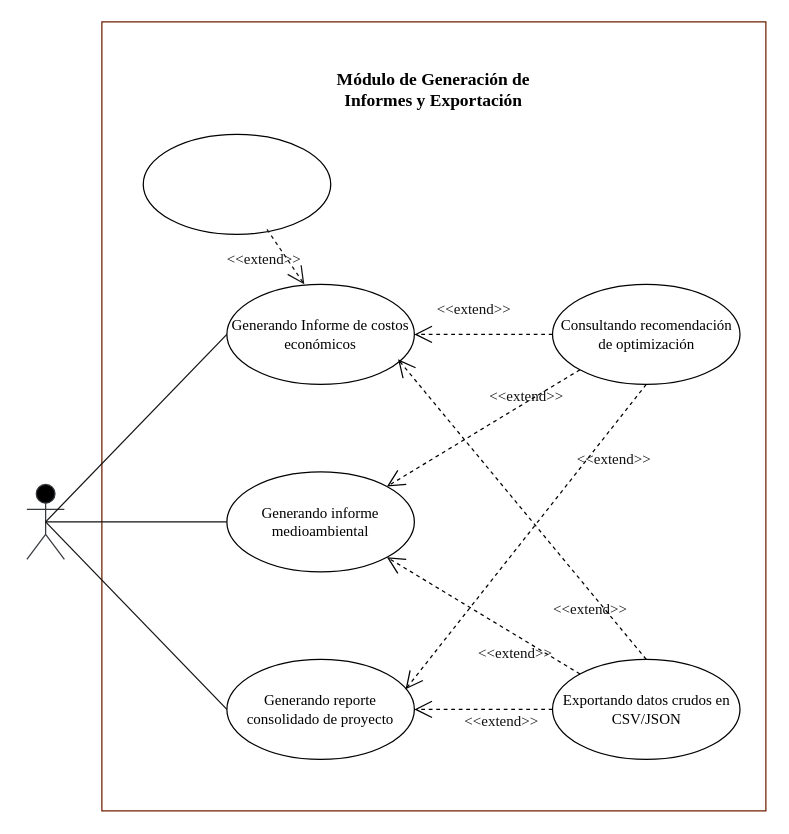
The diagram is 789 pixels wide and 834 high, and some of its shapes have lost their labels. The centre of each missing label's shape, as x and y in pixels:
Configurando divisa de presentación: pixel 236 183
Usuario: pixel 45 521
